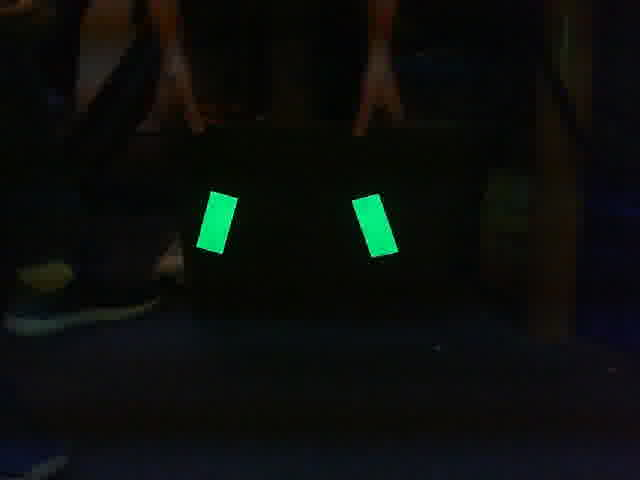target: (194, 192, 401, 259)
